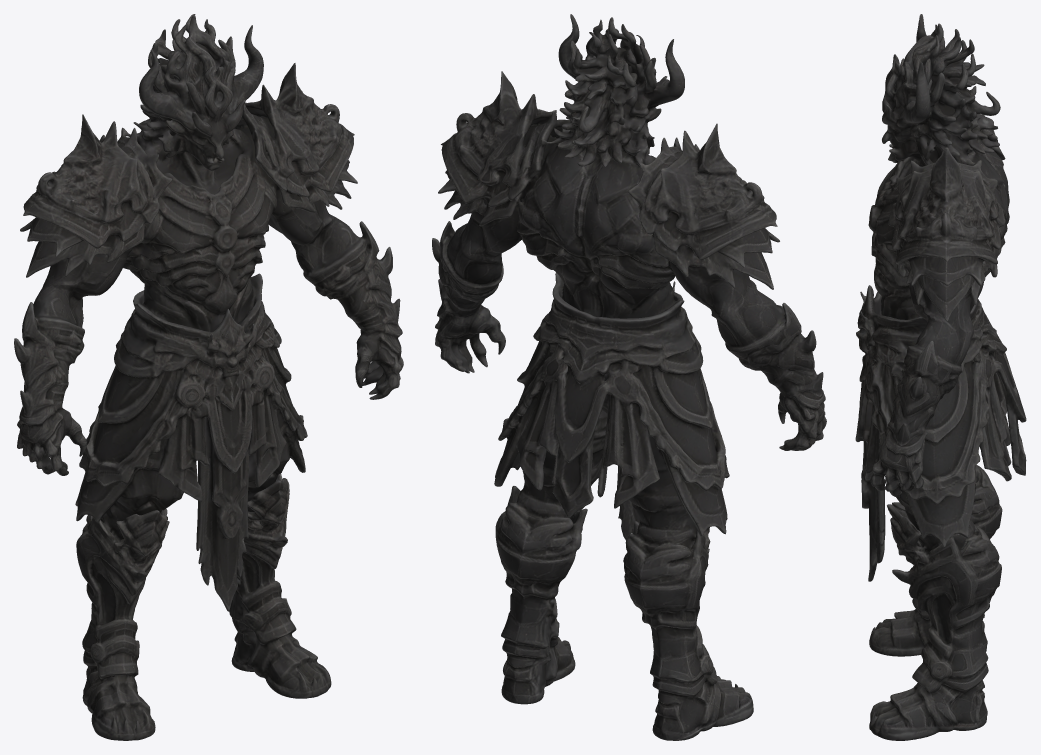
Rendered from 1e9b0f9efb50_Meshy_AI_Horned_Warlord_of_the_Abyss_20261120_texture.glb.
3 views of the same model, side by side, from view 1: azimuth 30°, elevation 25°; view 2: azimuth 150°, elevation 25°; view 3: azimuth 270°, elevation 25° (orthographic). The views are drawn at different scales.
Visible parts, largest first — view 1: Mesh_0; view 2: Mesh_0; view 3: Mesh_0.
Boxes of the visible parts, x1,y1,x2,y2 form: Mesh_0: (14,14,403,740); Mesh_0: (432,14,826,740); Mesh_0: (855,14,1026,740).
Bounding box in the file's own units: 1.11 × 1.9 × 0.4435.
1 material, 1 textured.
